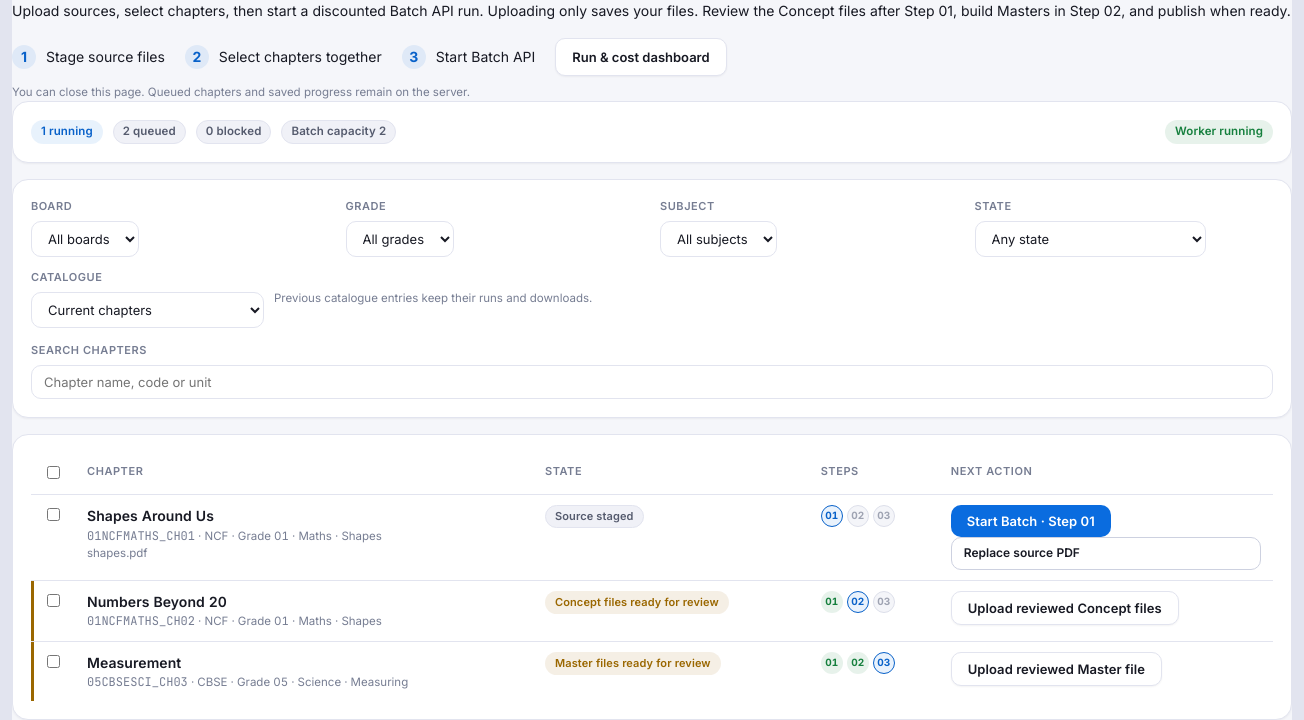
a row and its open drawer never share an upload id
(page scrolled)
Expected: the button "Numbers Beyond 20" is shown, 87,591 -> 227,612
Click the button "Measurement" at (134, 662), box 87,652 -> 181,673
(page scrolled)
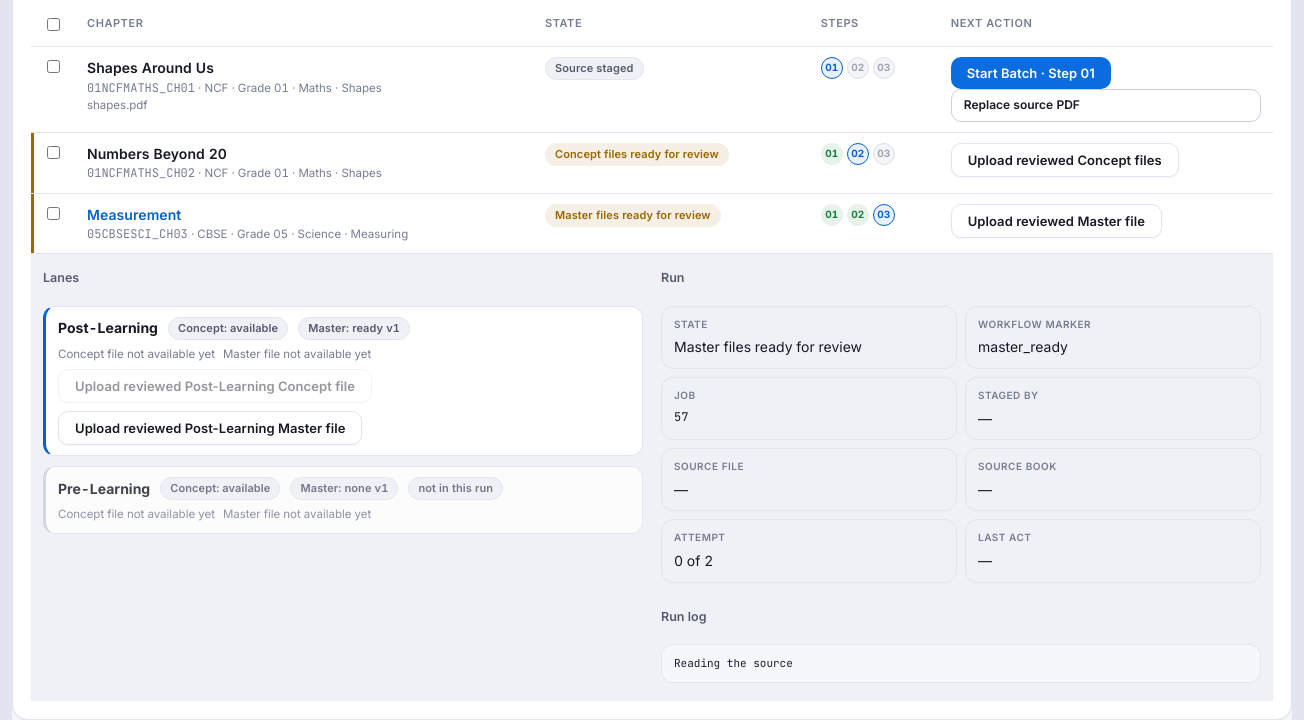
Now the element with test id "chapter-103-drawer" is shown, box 43,264 -> 1261,691
